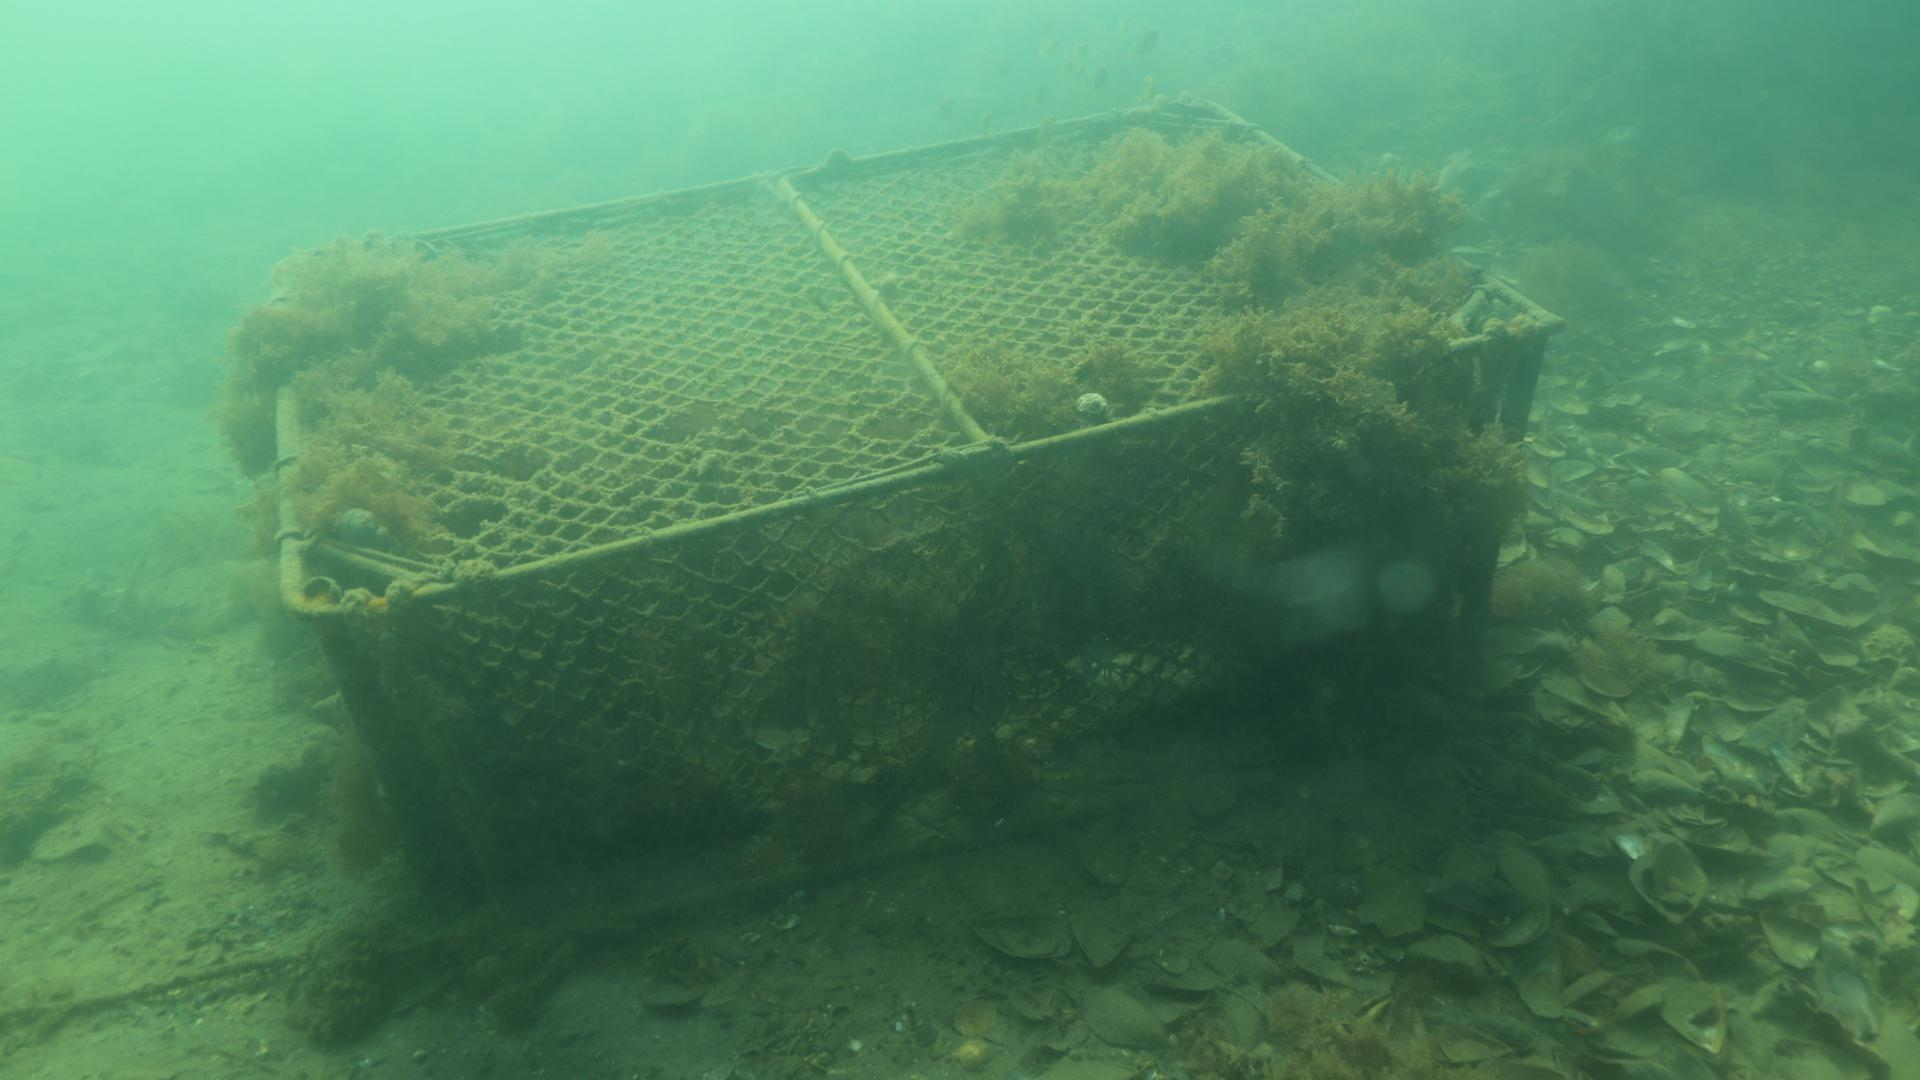rectangular fish trap: (266, 95, 1568, 931)
